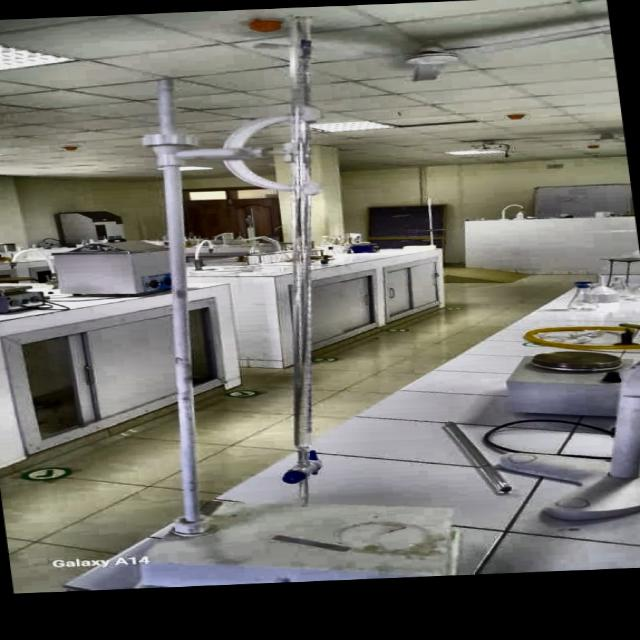Biurette: (195, 28, 389, 512)
